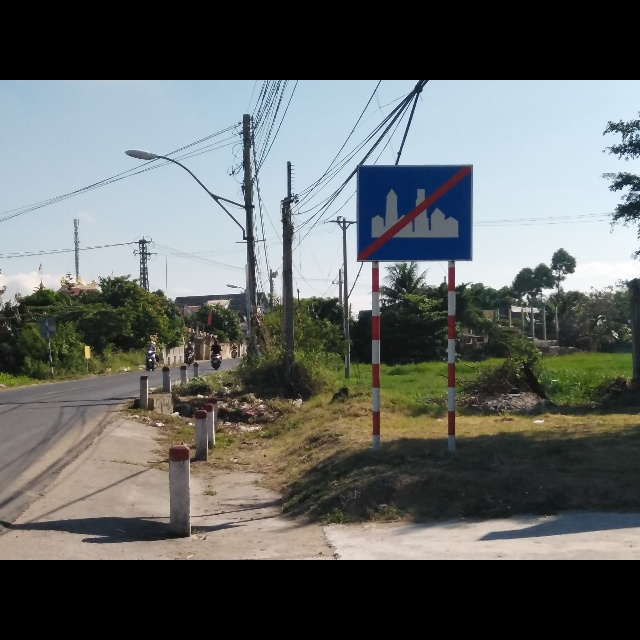Hết khu đông dân cư: (356, 160, 475, 262)
